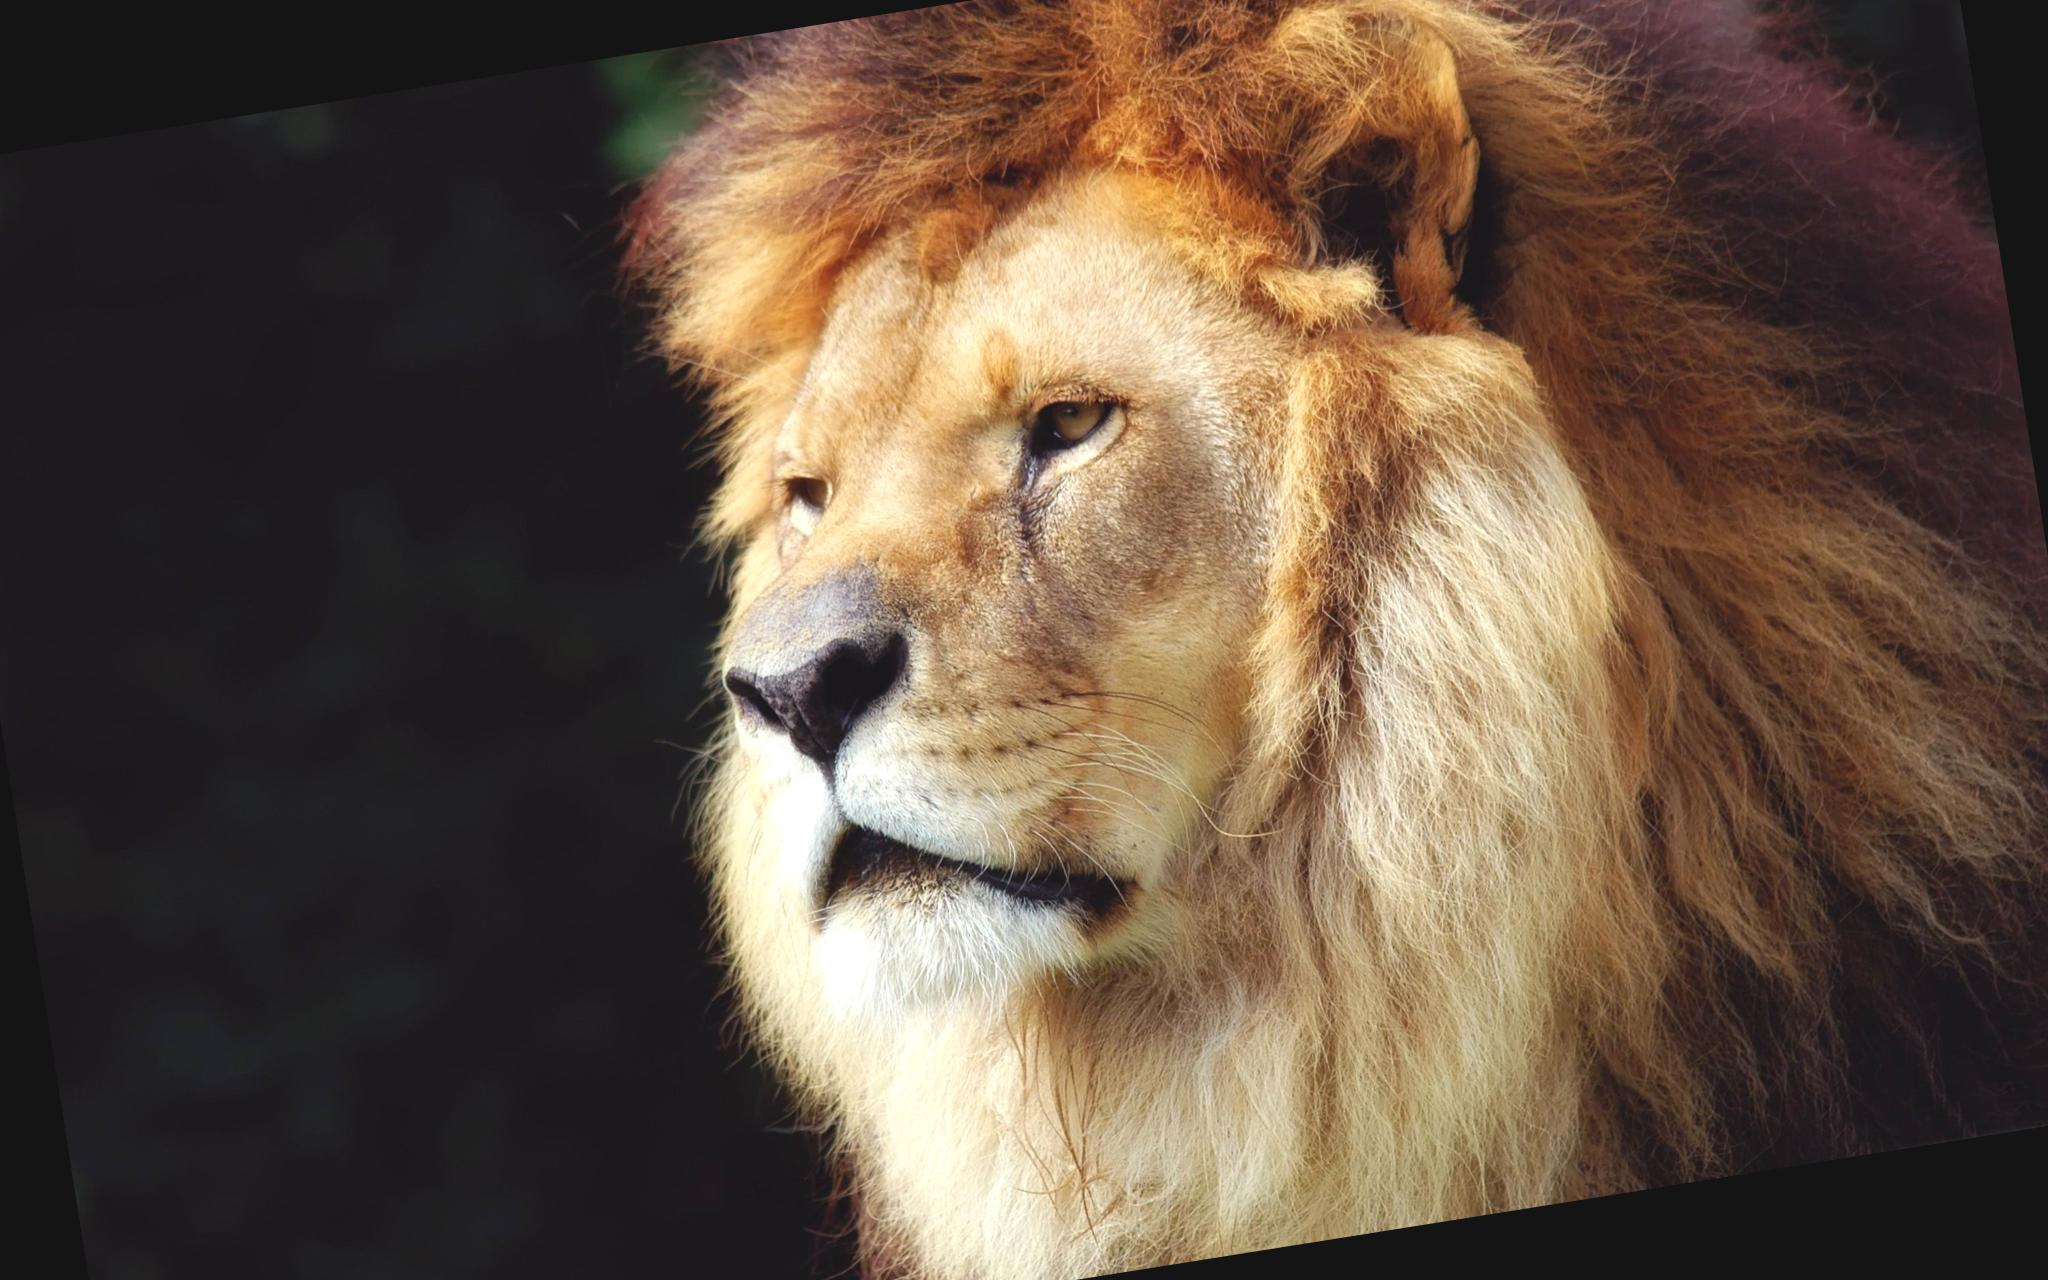lions: (149, 0, 2048, 1280)
